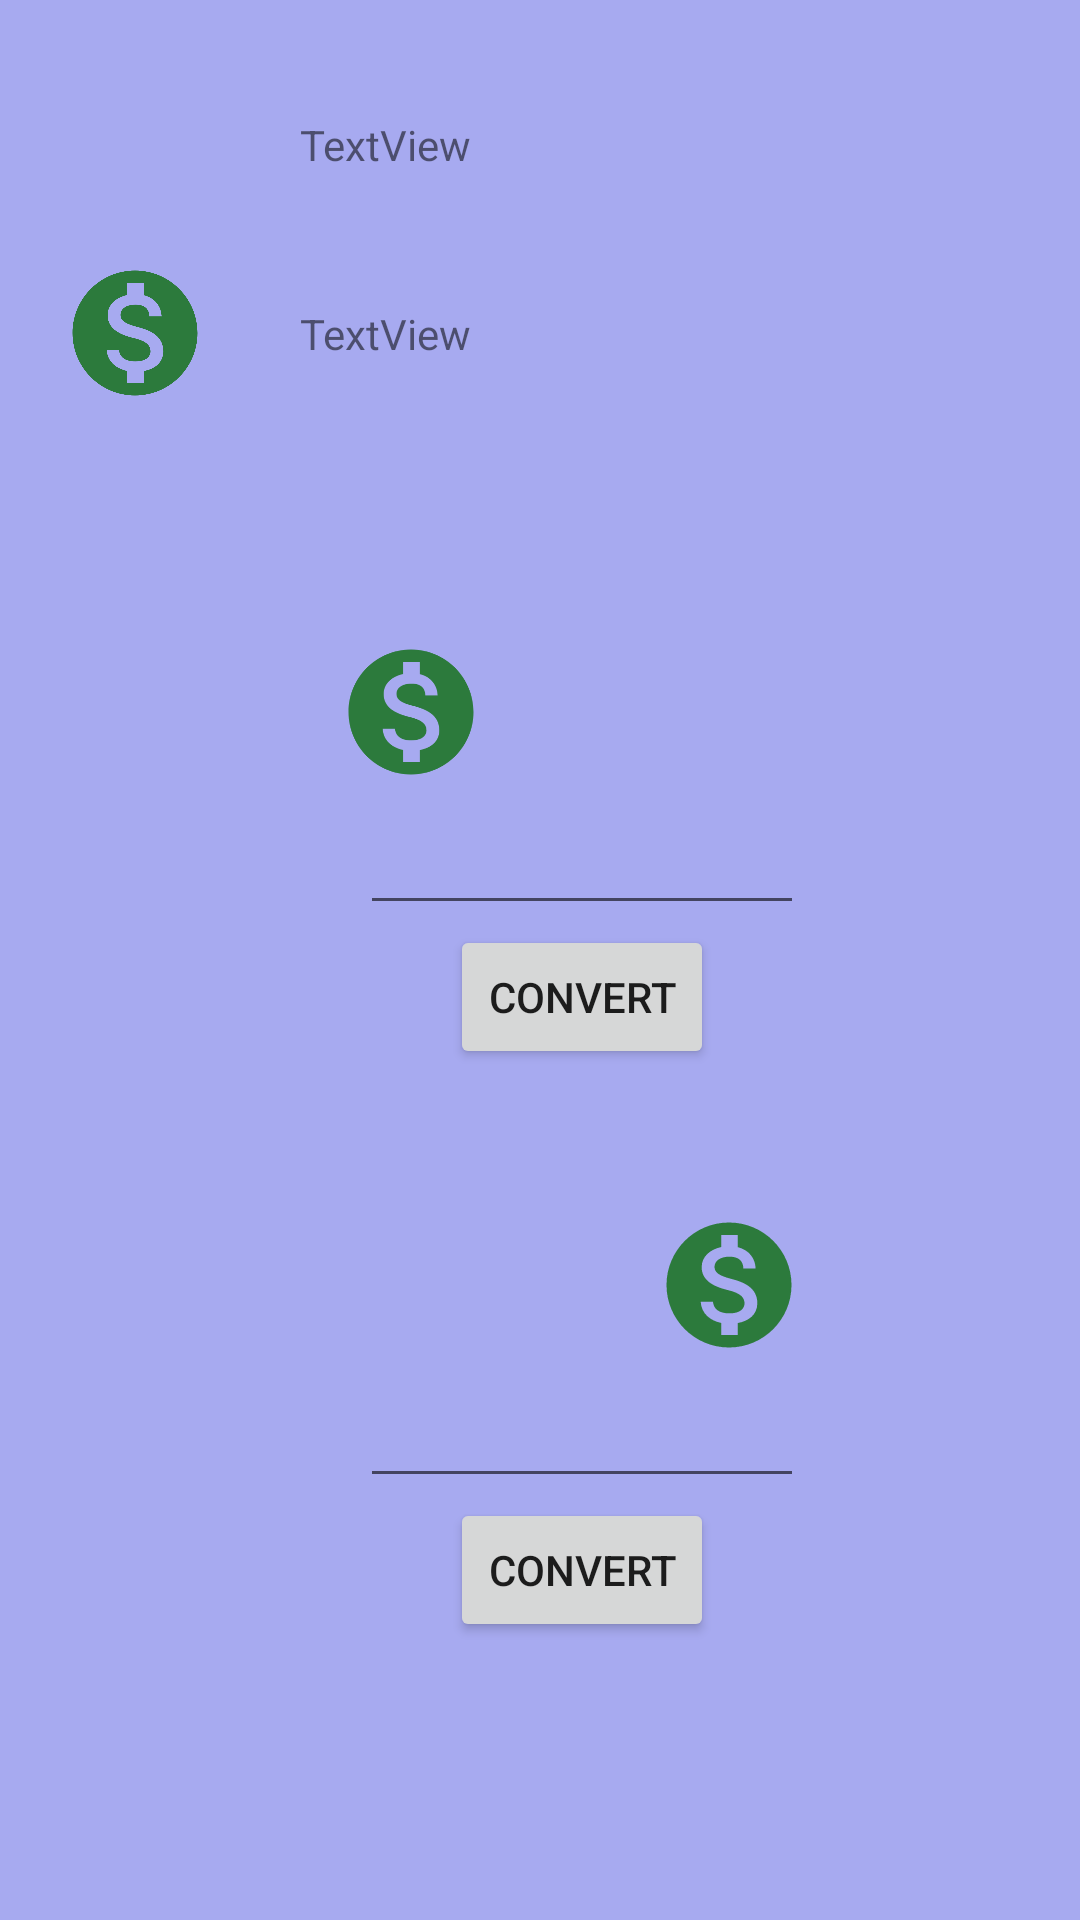

Locate icon controls on the screen. Image size 1080px×1920px, boxes as (x1, y1, x2, y2).
cash money: (72, 270, 198, 396), (348, 649, 474, 775), (666, 1222, 792, 1348)
